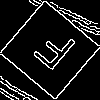F: (25, 25, 79, 80)
